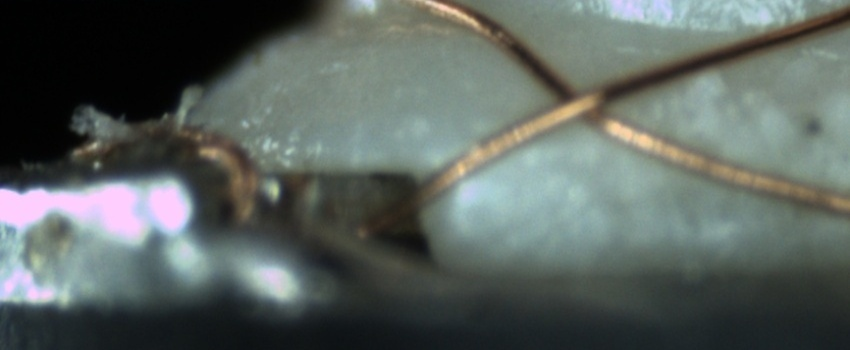CL: (526, 57, 644, 142)
DL: (499, 121, 606, 181)
TE: (67, 118, 268, 228)
